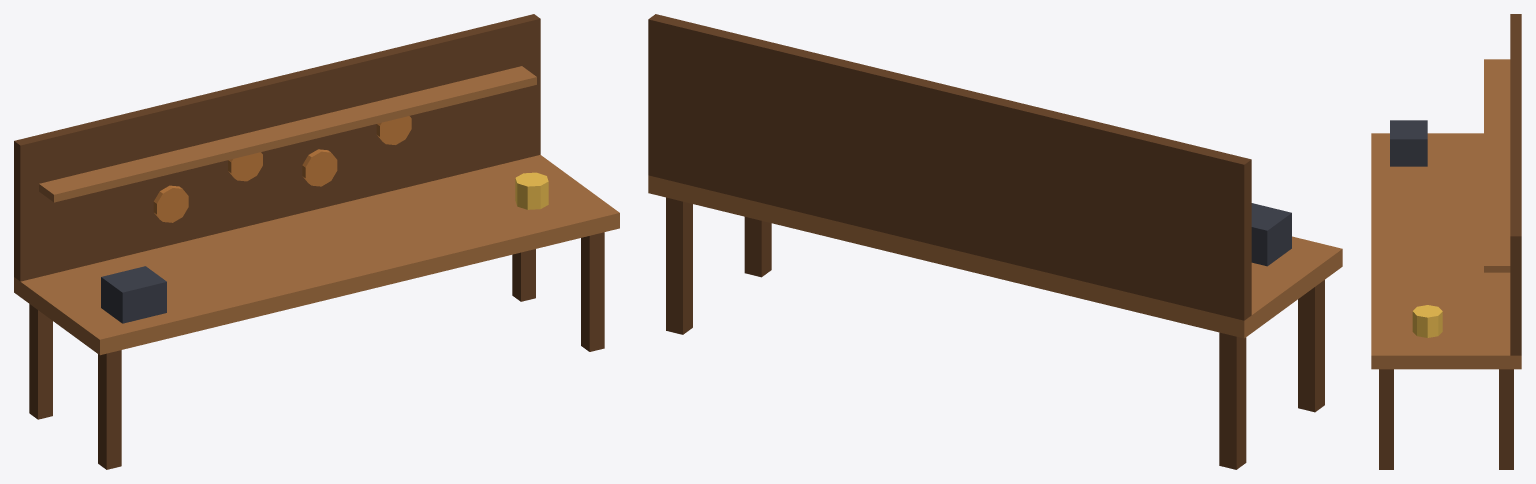
The model's file is mdl_taller.fbx.
3 renders of one model, left to right at view 1: azimuth 30°, elevation 25°; view 2: azimuth 150°, elevation 25°; view 3: azimuth 270°, elevation 25°, orthographic. The views are drawn at different scales.
Parts seen in each view (by area): view 1: mdl_taller; view 2: mdl_taller; view 3: mdl_taller.
Boxes of the visible parts, x1,y1,x2,y2 form: mdl_taller: [14, 14, 619, 469]; mdl_taller: [648, 14, 1342, 469]; mdl_taller: [1371, 14, 1521, 469].
Size of the model in its own units: 1400 by 700 by 400.
